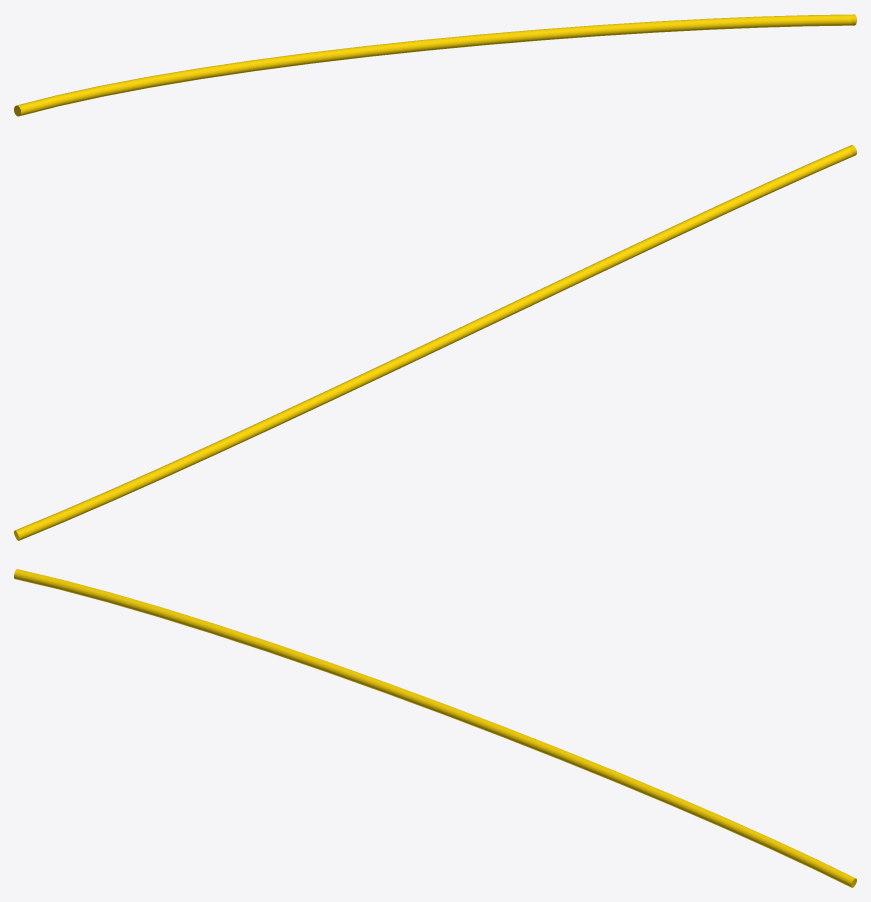
File: Event_421115418_track_158.fbx
The picture shows the model from 3 angles, top to bottom: view 1: azimuth 30°, elevation 25°; view 2: azimuth 210°, elevation 25°; view 3: azimuth 330°, elevation 25°; orthographic projection. The views are drawn at different scales.
Parts seen in each view (by area): view 1: Model; view 2: Model; view 3: Model.
Boxes of the visible parts, x1,y1,x2,y2 form: Model: (14,14,856,116); Model: (14,145,856,540); Model: (14,569,856,887).
Size of the model in its own units: 3.59 by 0.6182 by 0.3027.
